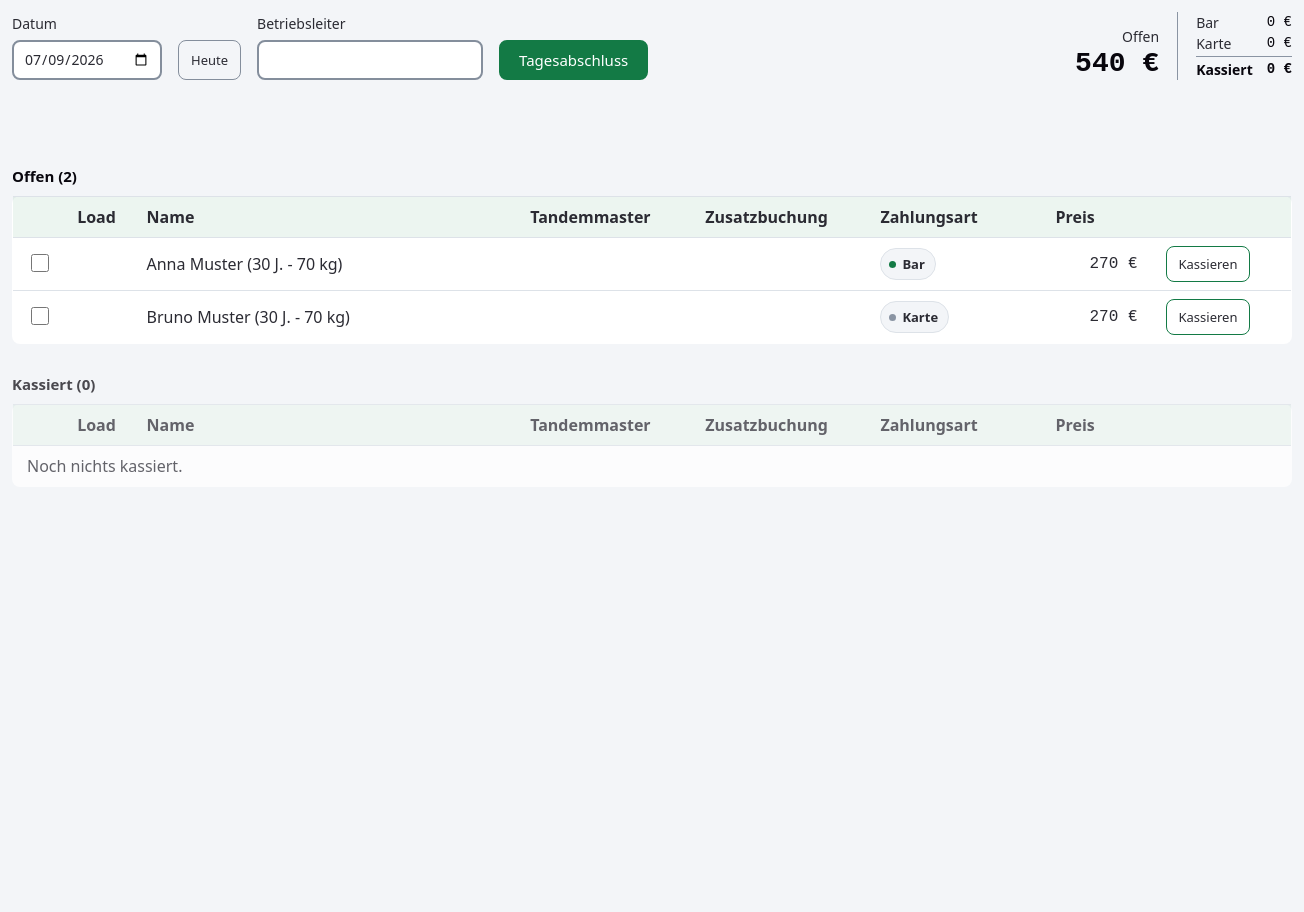
Test: List › Export-Warnung › collects every open tandem and then exports
Expected: the text "Anna Muster" is shown, [146,253,243,275]
Click the button "Tagesabschluss" at (574, 60), box [499,40,648,80]
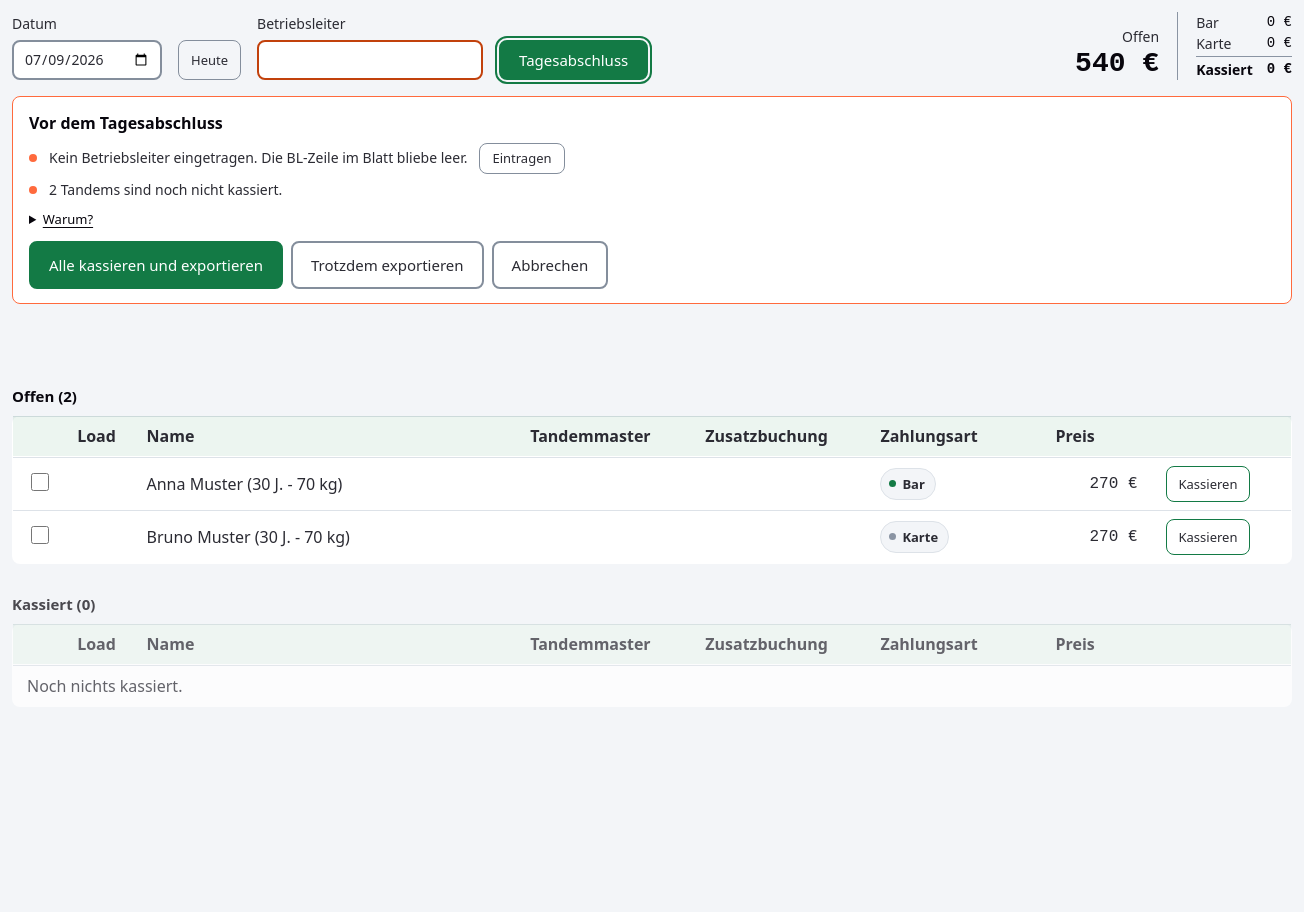
Click the button "Alle kassieren und exportieren" at (156, 265), box [29,241,283,289]
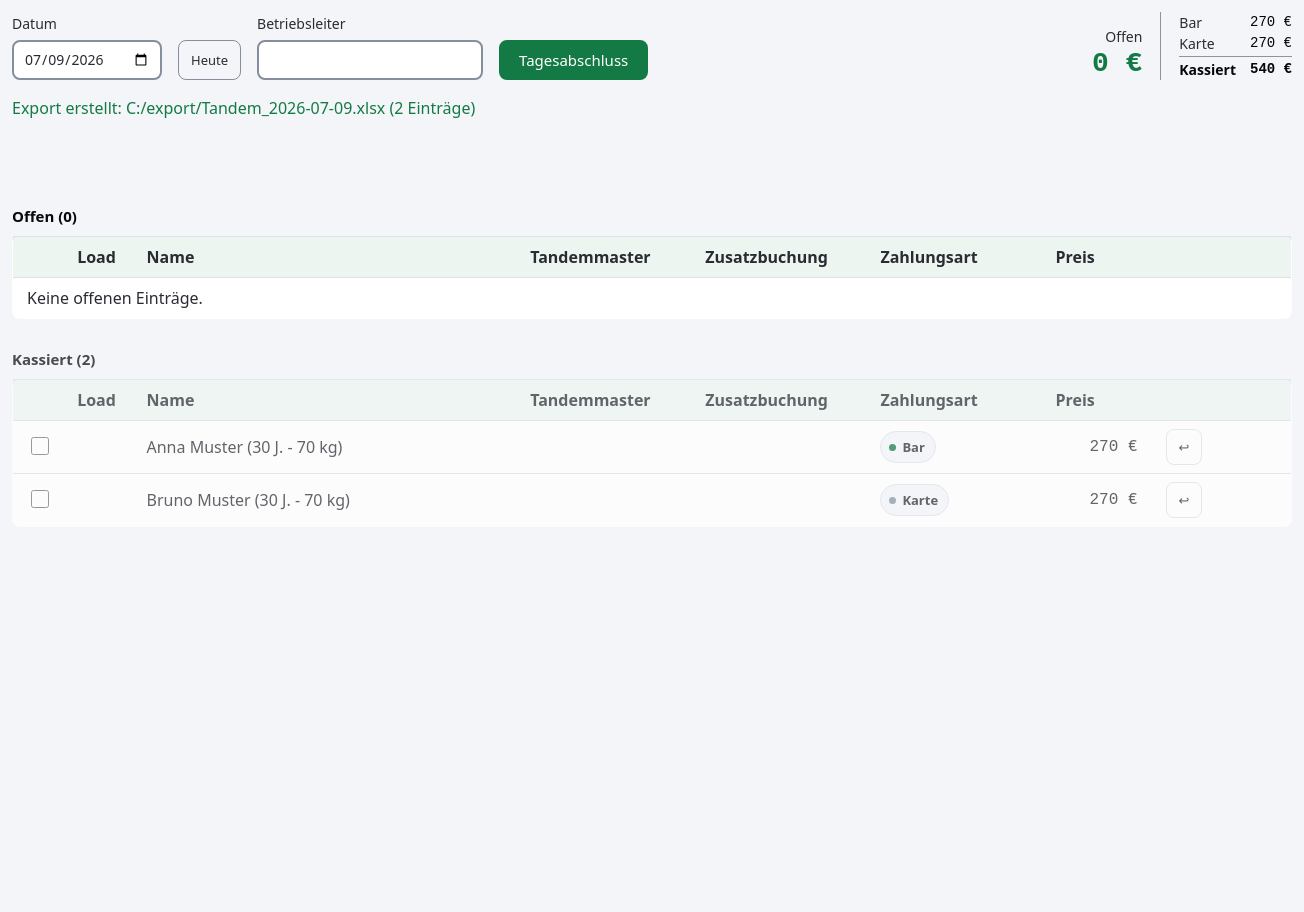
Result: the text "Export erstellt" is shown at [12,97,475,119]
